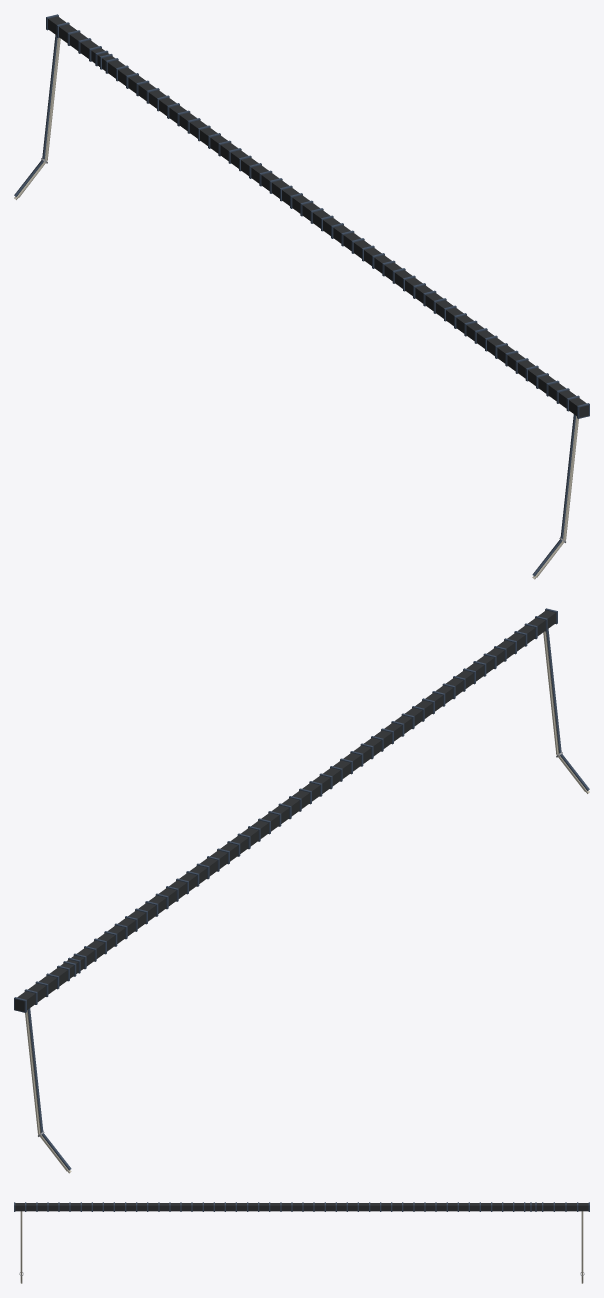
Rendered from kc1000_duct.obj.
The picture shows the model from 3 angles, top to bottom: view 1: azimuth 30°, elevation 25°; view 2: azimuth 150°, elevation 25°; view 3: azimuth 270°, elevation 25°; orthographic projection. The views are drawn at different scales.
Visible parts, largest first — view 1: kc1000_duct; view 2: kc1000_duct; view 3: kc1000_duct.
Boxes of the visible parts, x1,y1,x2,y2 form: kc1000_duct: [14, 14, 589, 579]; kc1000_duct: [14, 608, 589, 1173]; kc1000_duct: [14, 1202, 589, 1283].
Size of the model in its own units: 0.7052 by 2.26 by 12.94.
